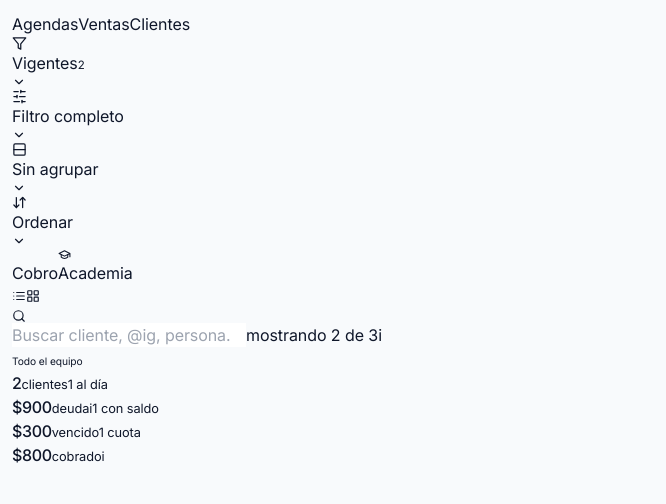
Test: Clientes · los dados de baja › la tira de totales los cuenta solo en su filtro, aparte de los al día
What coordinates should you click on to do the following:
click the button "Vigentes2"
I would click on:
 (48, 62)
Its box is [12,36,85,89].
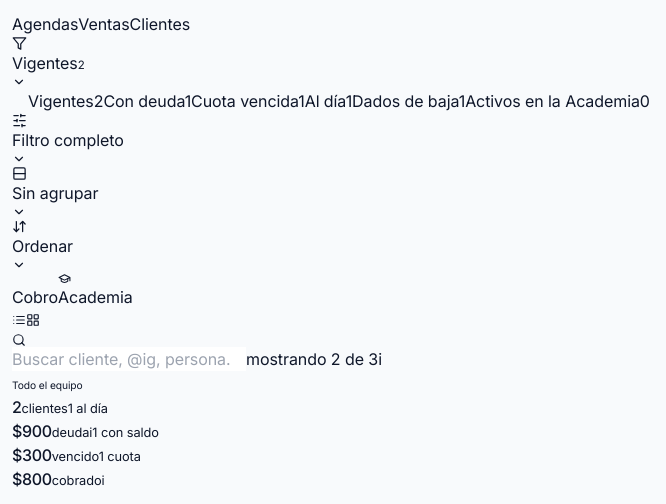
What coordinates should you click on to do the following:
click the menu item "Dados de baja1"
I would click on:
 (409, 101)
Its box is [352,89,465,113].
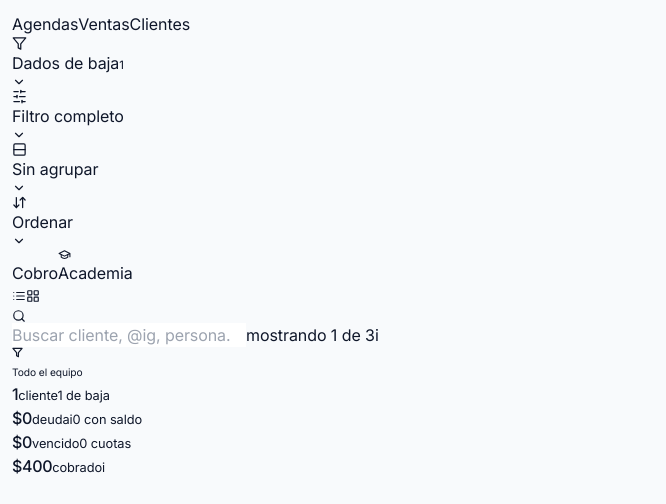
Check: the text "1" in the row of "1 de baja" is shown, box [12,384,18,404]
Check: the text "$400" is shown, box [12,456,52,476]
